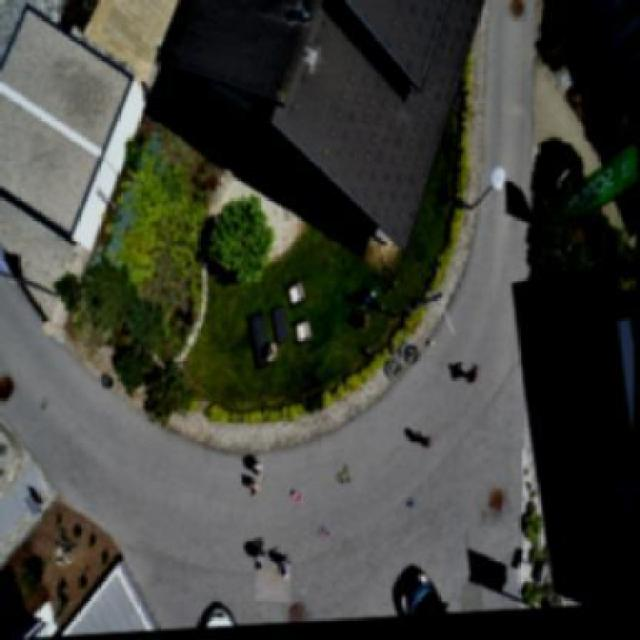Person: (266, 552, 299, 582), (464, 360, 485, 398), (238, 474, 264, 500), (246, 545, 269, 573), (261, 338, 279, 370), (246, 458, 268, 480)
